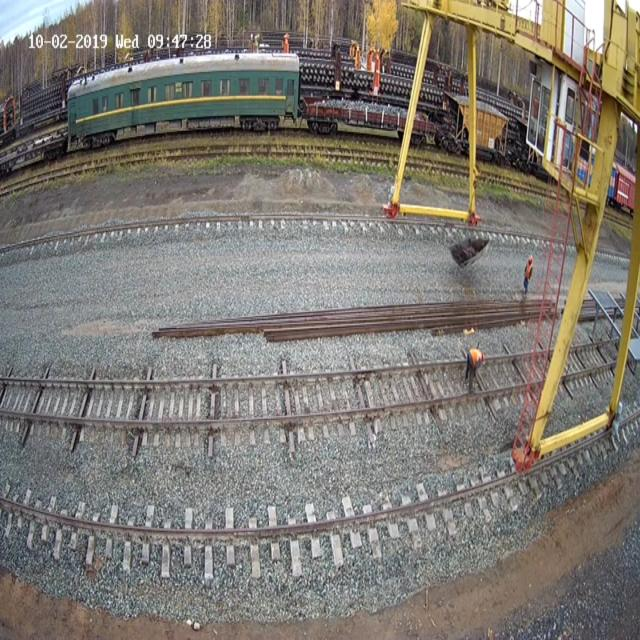Person: (464, 348, 486, 392), (523, 255, 533, 294)
